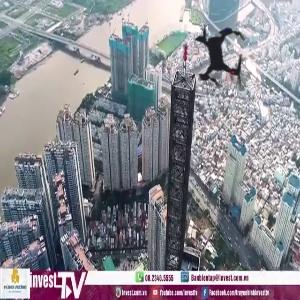drone: (167, 1, 281, 115)
